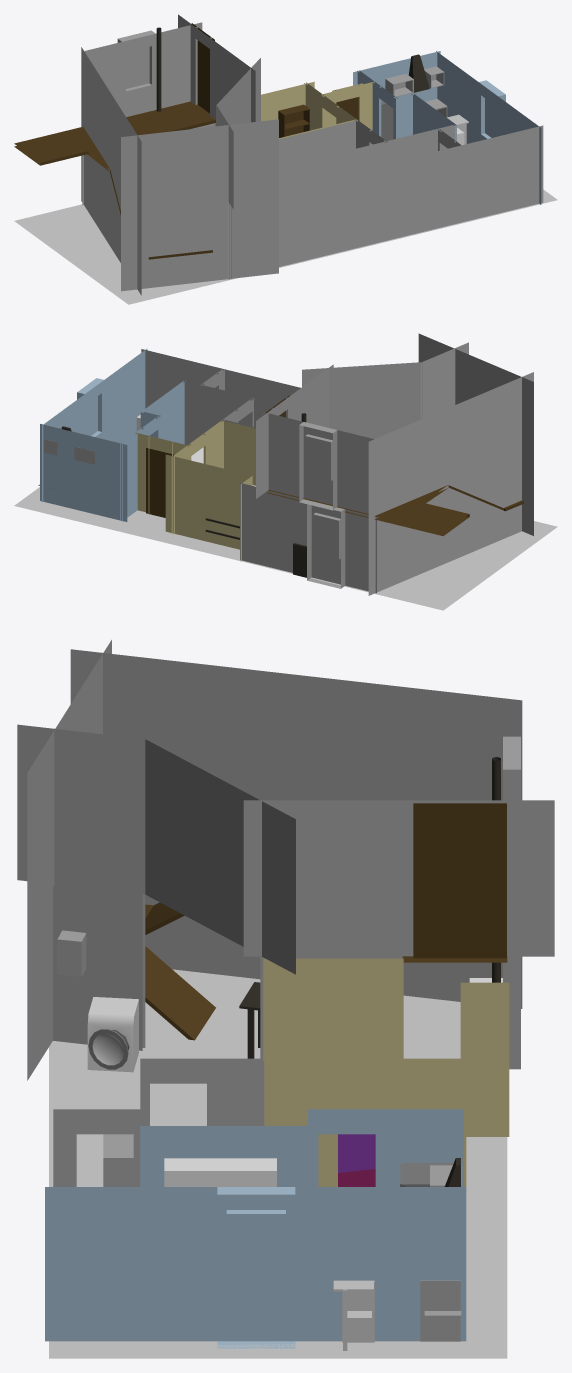
Rendered from Normal House.fbx.
3 renders of one model, top to bottom at view 1: azimuth 30°, elevation 25°; view 2: azimuth 150°, elevation 25°; view 3: azimuth 270°, elevation 25°, orthographic. The views are drawn at different scales.
Parts seen in each view (by area): view 1: Polygon_2, Polygon_3_2, Polygon_3, Polygon, Polygon_18, Cube_5_2, Polygon_12, Polygon_4, Window_block_2, Polygon_16, Cube_6_2, Polygon_1 (+22 smaller); view 2: Polygon_12, Polygon_4, Polygon, Cube_48_2, Polygon_13, Polygon_6, Polygon_5, Polygon_2, Polygon_3_2, Window_block_1, Window_block_2, Polygon_15 (+20 smaller); view 3: Polygon_12, Polygon, Polygon_15, Polygon_1, Cube_48, Cube_48_2, Cube_49_2, Cube_8_2, Cube_47_2, Window_block, Polygon_9, Cube_7_2 (+23 smaller).
Part boxes in pixels (x1,y1,x2,y2): Polygon_2: [227, 125, 543, 279]; Polygon_3_2: [121, 119, 278, 213]; Polygon_3: [121, 196, 278, 291]; Polygon: [14, 189, 557, 304]; Polygon_18: [14, 101, 215, 171]; Cube_5_2: [279, 124, 455, 189]; Polygon_12: [81, 47, 141, 218]; Polygon_4: [81, 124, 141, 295]; Window_block_2: [117, 30, 155, 117]; Polygon_16: [156, 22, 202, 109]; Cube_6_2: [279, 119, 357, 167]; Polygon_1: [436, 51, 479, 143]; Polygon_12: [368, 372, 533, 518]; Polygon_4: [368, 454, 521, 595]; Polygon: [14, 487, 557, 610]; Cube_48_2: [302, 362, 422, 438]; Polygon_13: [40, 424, 127, 521]; Polygon_6: [165, 454, 251, 549]; Polygon_5: [240, 483, 312, 577]; Polygon_2: [141, 349, 300, 408]; Polygon_3_2: [418, 333, 533, 458]; Window_block_1: [307, 501, 345, 588]; Window_block_2: [299, 422, 337, 510]; Polygon_15: [103, 349, 147, 443]; Polygon_12: [70, 649, 522, 800]; Polygon: [49, 969, 507, 1358]; Polygon_15: [45, 1187, 219, 1341]; Polygon_1: [291, 1187, 466, 1341]; Cube_48: [243, 800, 420, 956]; Cube_48_2: [144, 738, 295, 974]; Cube_49_2: [17, 724, 148, 894]; Cube_8_2: [263, 956, 403, 1109]; Cube_47_2: [413, 803, 506, 958]; Window_block: [217, 1187, 295, 1348]; Polygon_9: [53, 886, 142, 1050]; Cube_7_2: [207, 1058, 337, 1186].
Size of the model in its own units: 1746 by 674 by 946.
